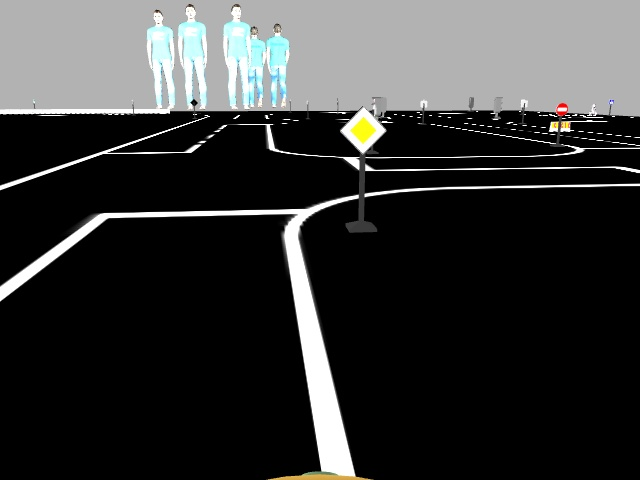ClosedRoadStand: (547, 119, 571, 133)
NoEntry: (553, 101, 568, 117)
Priority: (335, 105, 387, 155)
